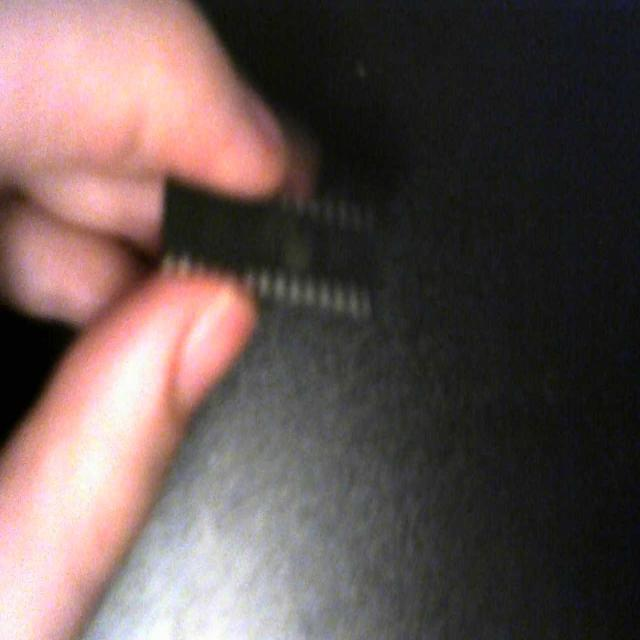atmega: (152, 152, 382, 344)
